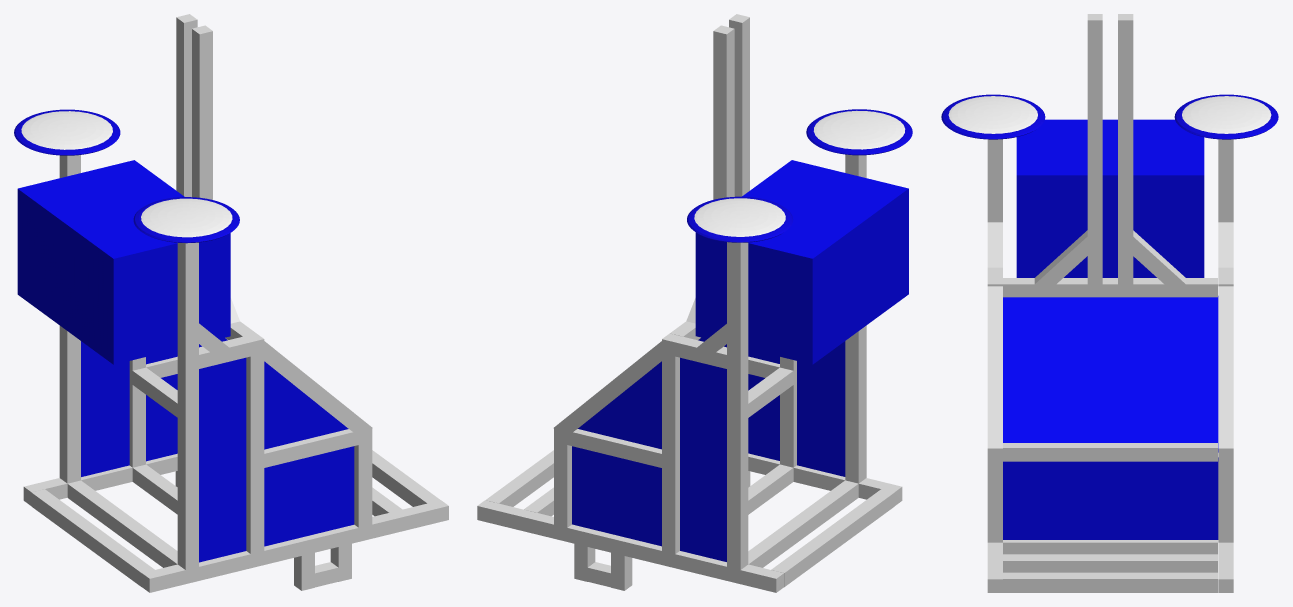
The model's file is Chassis.dae.
3 views of the same model, side by side, from view 1: azimuth 30°, elevation 25°; view 2: azimuth 150°, elevation 25°; view 3: azimuth 270°, elevation 25° (orthographic). The views are drawn at different scales.
Parts seen in each view (by area): view 1: Chassis, GPS, GPS.001; view 2: Chassis, GPS.001, GPS; view 3: Chassis, GPS.001, GPS.
Part boxes in pixels (x1=…): Chassis: x1=17, y1=14, x2=448, y2=592; GPS: x1=14, y1=109, x2=120, y2=155; GPS.001: x1=133, y1=197, x2=239, y2=243; Chassis: x1=477, y1=14, x2=908, y2=592; GPS.001: x1=806, y1=109, x2=912, y2=155; GPS: x1=687, y1=196, x2=793, y2=242; Chassis: x1=987, y1=14, x2=1233, y2=592; GPS.001: x1=941, y1=94, x2=1045, y2=139; GPS: x1=1174, y1=94, x2=1278, y2=139.
Bounding box in the file's own units: 0.7125 × 0.665 × 1.13.
